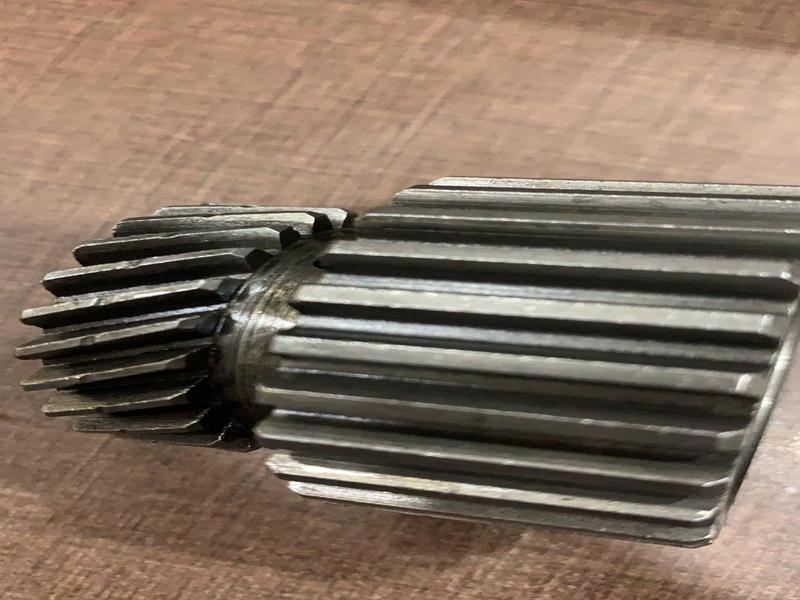engine gear ape: (71, 173, 799, 557)
